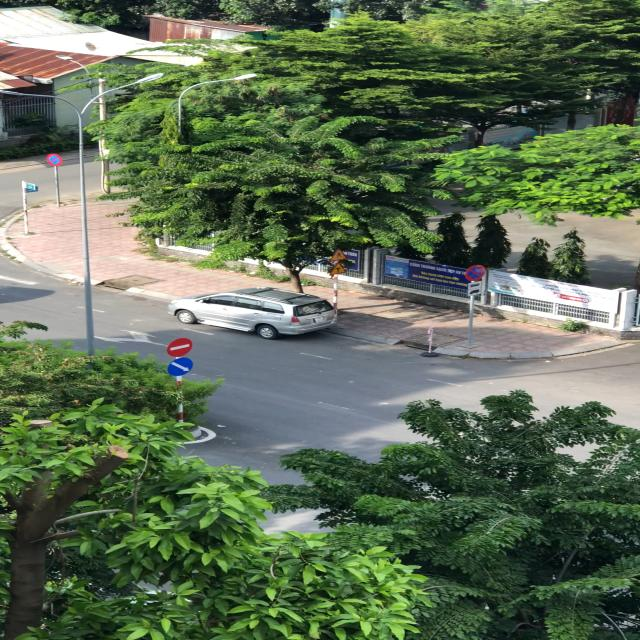Bien bao cam di nguoc chieu: (163, 336, 197, 358)
Bien bao cam dung xe va do xe: (464, 263, 489, 282)
Bien bao duong giao nhau: (327, 261, 352, 276)
Bien bao duong nguoi di bo cat ngang: (326, 247, 351, 261)
Bien bao huong phai di vong chuong ngai vat: (164, 357, 200, 378)
